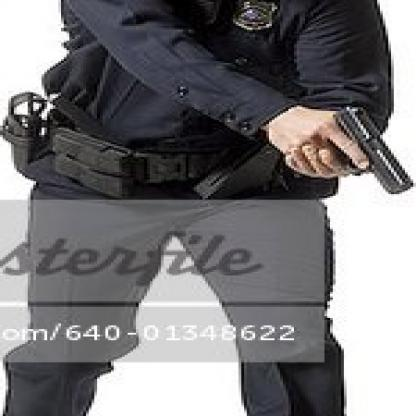gun: (291, 96, 408, 198)
